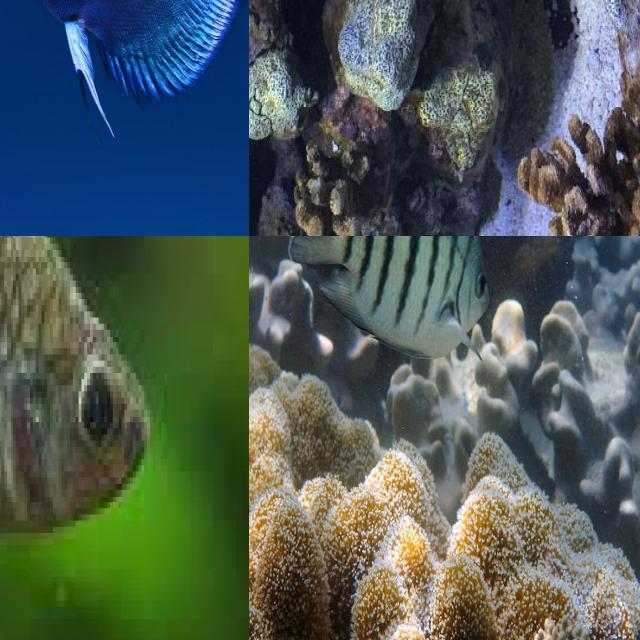fish: (0, 0, 249, 236), (0, 236, 104, 640)
